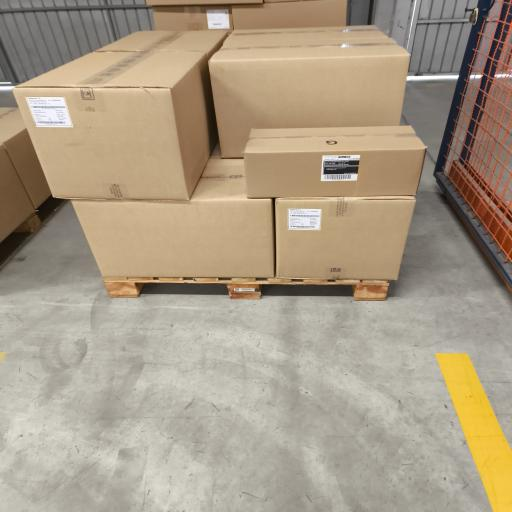pallet: (104, 278, 388, 300), (0, 197, 67, 268)
